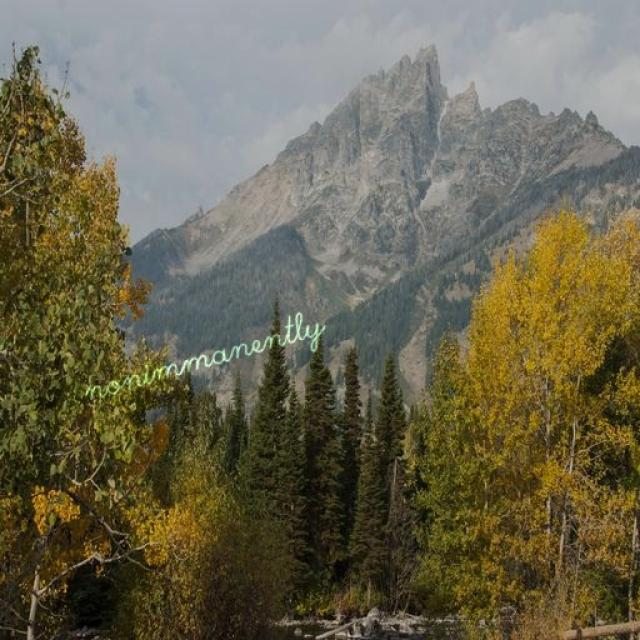watermark: (78, 303, 325, 407)
